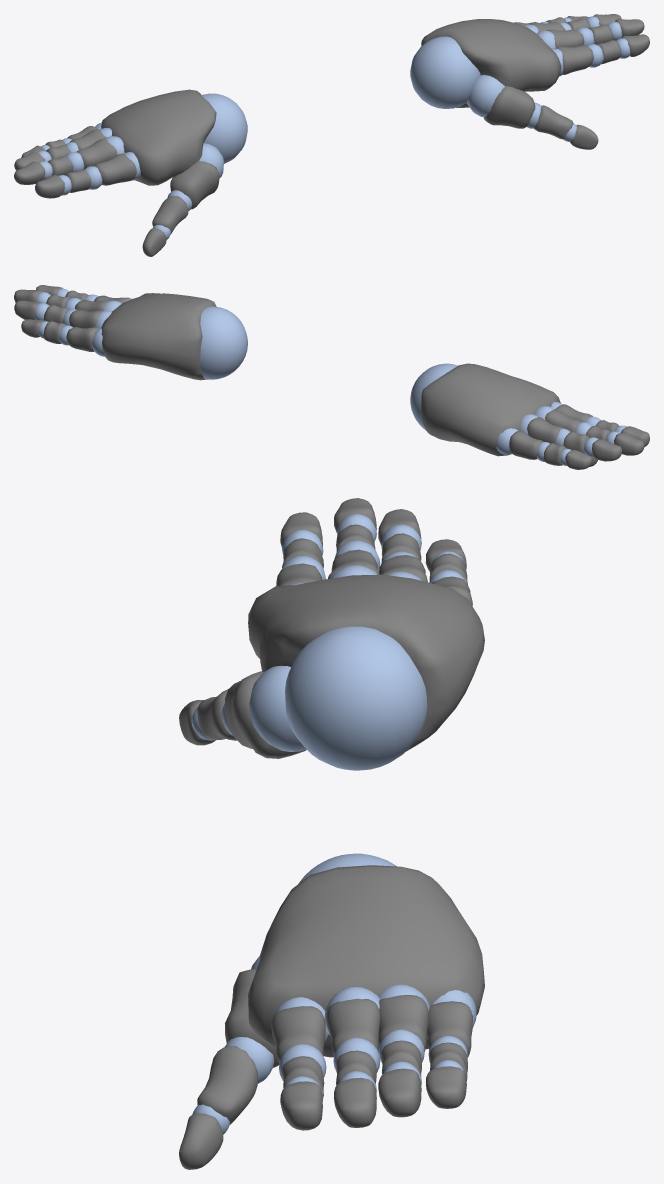
The model's file is Handen_Export.fbx.
3 views of the same model, one above another, from view 1: azimuth 30°, elevation 25°; view 2: azimuth 150°, elevation 25°; view 3: azimuth 270°, elevation 25° (orthographic). The views are drawn at different scales.
Visible parts, largest first — view 1: Beta_Surface, Beta_Joints; view 2: Beta_Surface, Beta_Joints; view 3: Beta_Surface, Beta_Joints.
Boxes of the visible parts, x1,y1,x2,y2 form: Beta_Surface: (14, 14, 649, 256); Beta_Joints: (37, 16, 630, 239); Beta_Surface: (14, 285, 649, 469); Beta_Joints: (34, 288, 626, 465); Beta_Surface: (179, 498, 484, 1169); Beta_Joints: (191, 514, 476, 1134).
Size of the model in its own units: 56.44 by 9.22 by 11.91.
